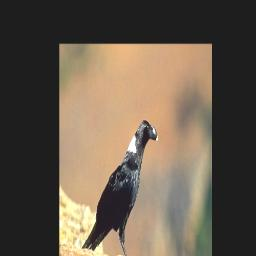Crow: (81, 115, 159, 256)
